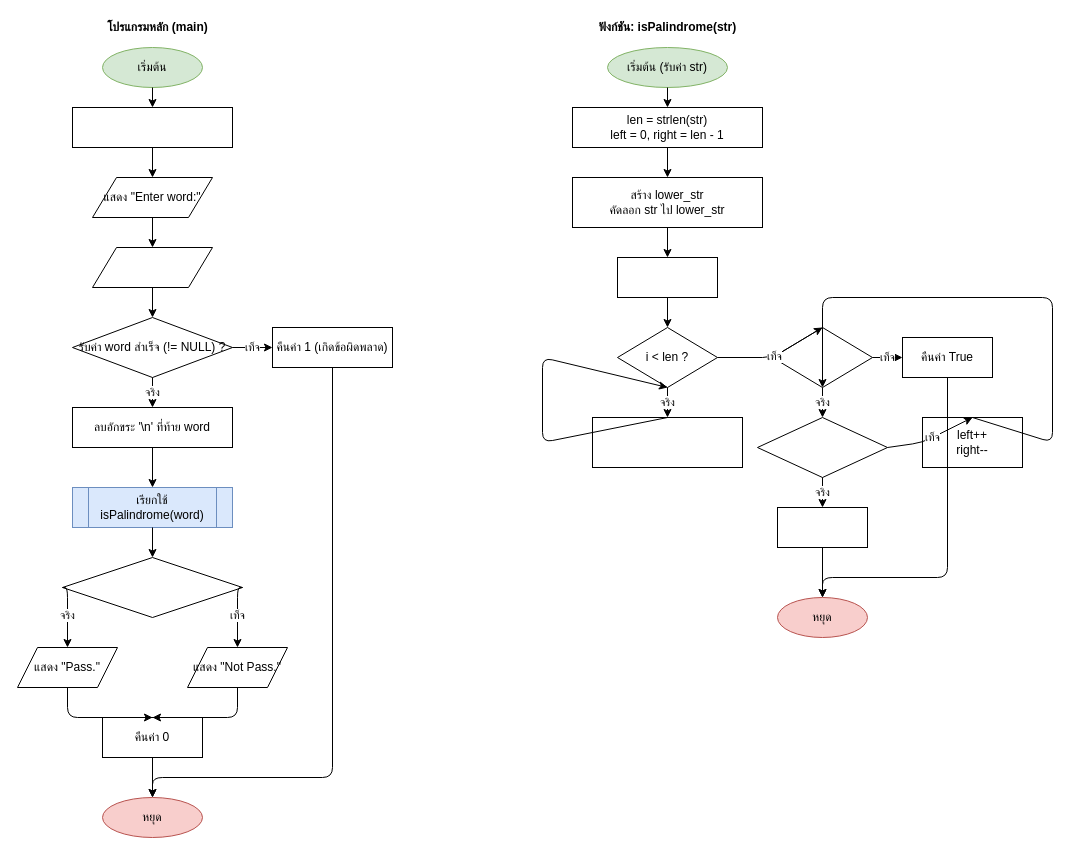
The diagram is 1078 pixels wide and 855 high, and some of its shapes have lost their labels. The shapes that lost their labels are listed below. From the top down, each one's centre as x and y in pixels, then its label:
point 152,127: ประกาศตัวแปร word[MAX_SIZE]
point 152,267: รับค่า word (ใช้ fgets)
point 667,277: i = 0
point 822,357: left < right ?
point 667,442: lower_str[i] = tolower(lower_str[i]) i = i + 1
point 822,447: lower_str[left] != lower_str[right] ?
point 822,527: คืนค่า False
point 152,587: ผลลัพธ์จาก isPalindrome เป็น True ?
